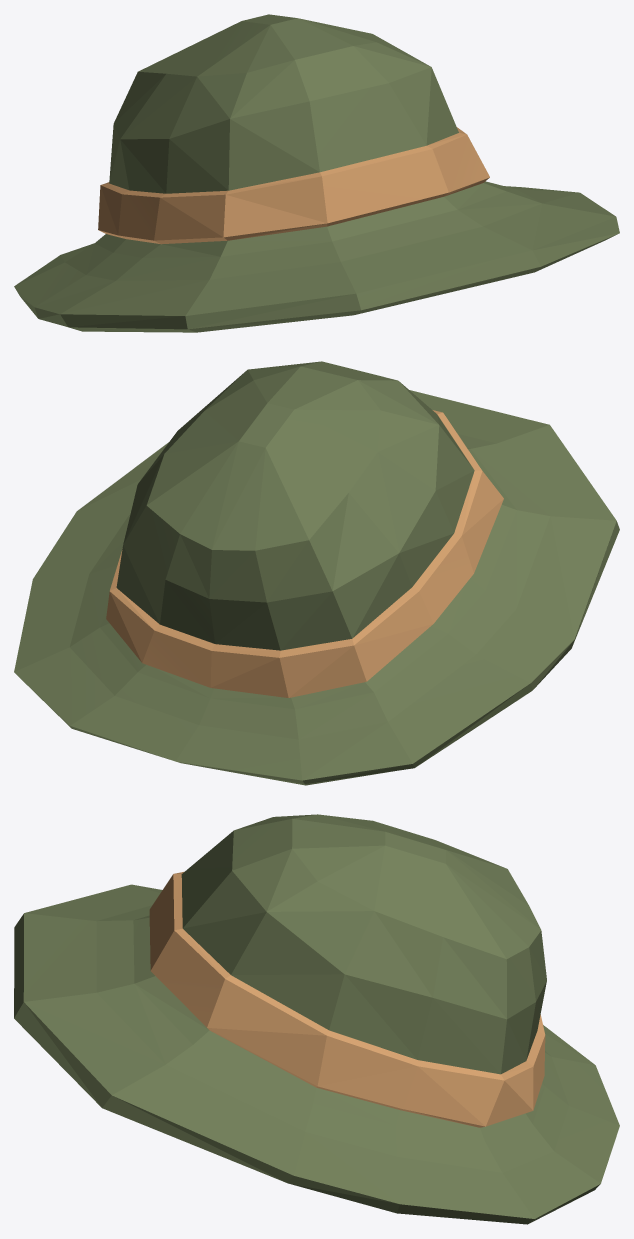
The model's file is helmHerbalistM.fbx.
3 renders of one model, top to bottom at view 1: azimuth 30°, elevation 25°; view 2: azimuth 150°, elevation 25°; view 3: azimuth 270°, elevation 25°, orthographic. The views are drawn at different scales.
Parts seen in each view (by area): view 1: helmHerbalistM; view 2: helmHerbalistM; view 3: helmHerbalistM.
Boxes of the visible parts, <box> form: helmHerbalistM: <box>14,14,619,332</box>; helmHerbalistM: <box>14,361,619,785</box>; helmHerbalistM: <box>14,814,619,1224</box>.
Size of the model in its own units: 0.8128 by 0.4396 by 0.7966.
